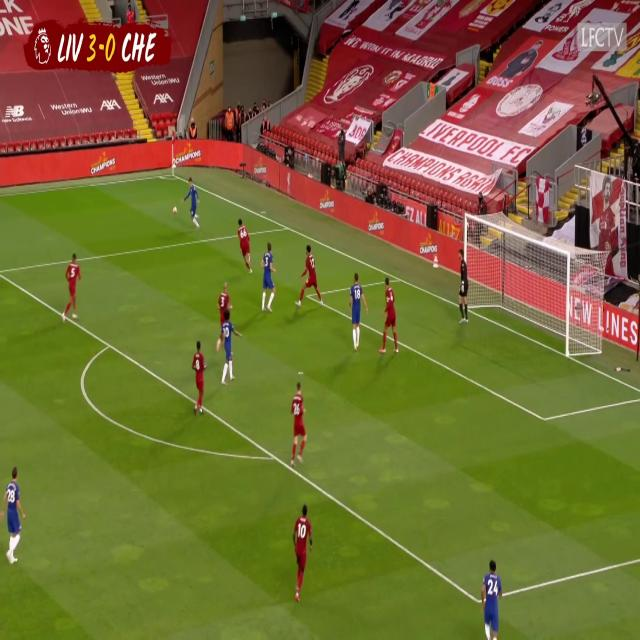ball: (172, 207, 177, 214)
team1: (290, 507, 312, 603), (296, 246, 324, 308), (289, 383, 308, 467), (380, 277, 399, 357), (63, 252, 82, 320), (238, 220, 251, 272)
team2: (4, 467, 30, 570), (480, 559, 504, 640), (217, 305, 239, 385), (192, 341, 208, 418), (351, 274, 366, 347), (262, 247, 278, 314), (186, 172, 201, 235)
